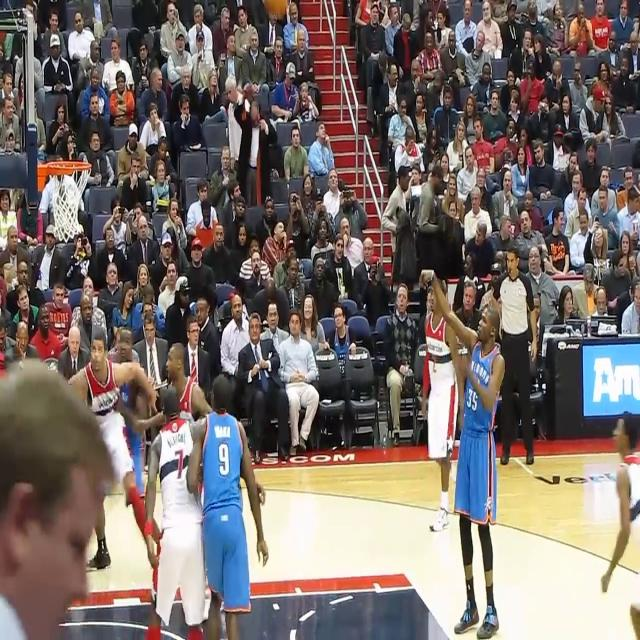ball: (265, 0, 286, 21)
